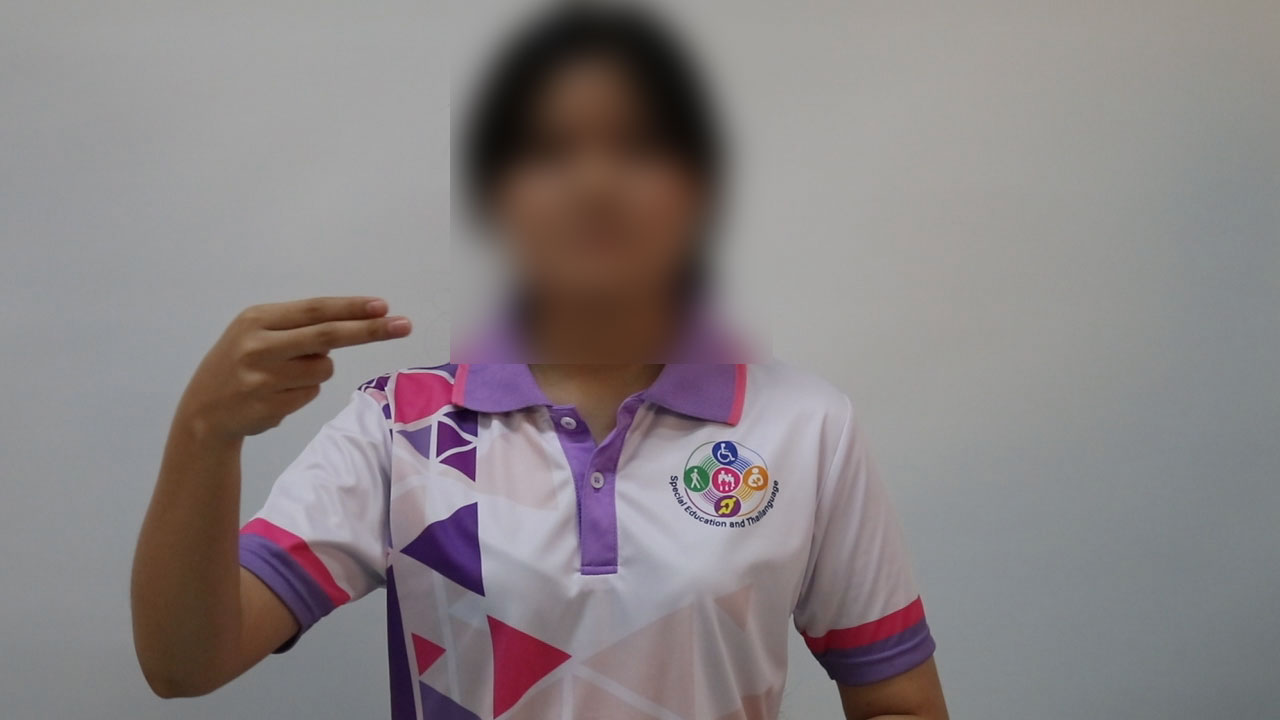hor: (178, 268, 427, 453)
